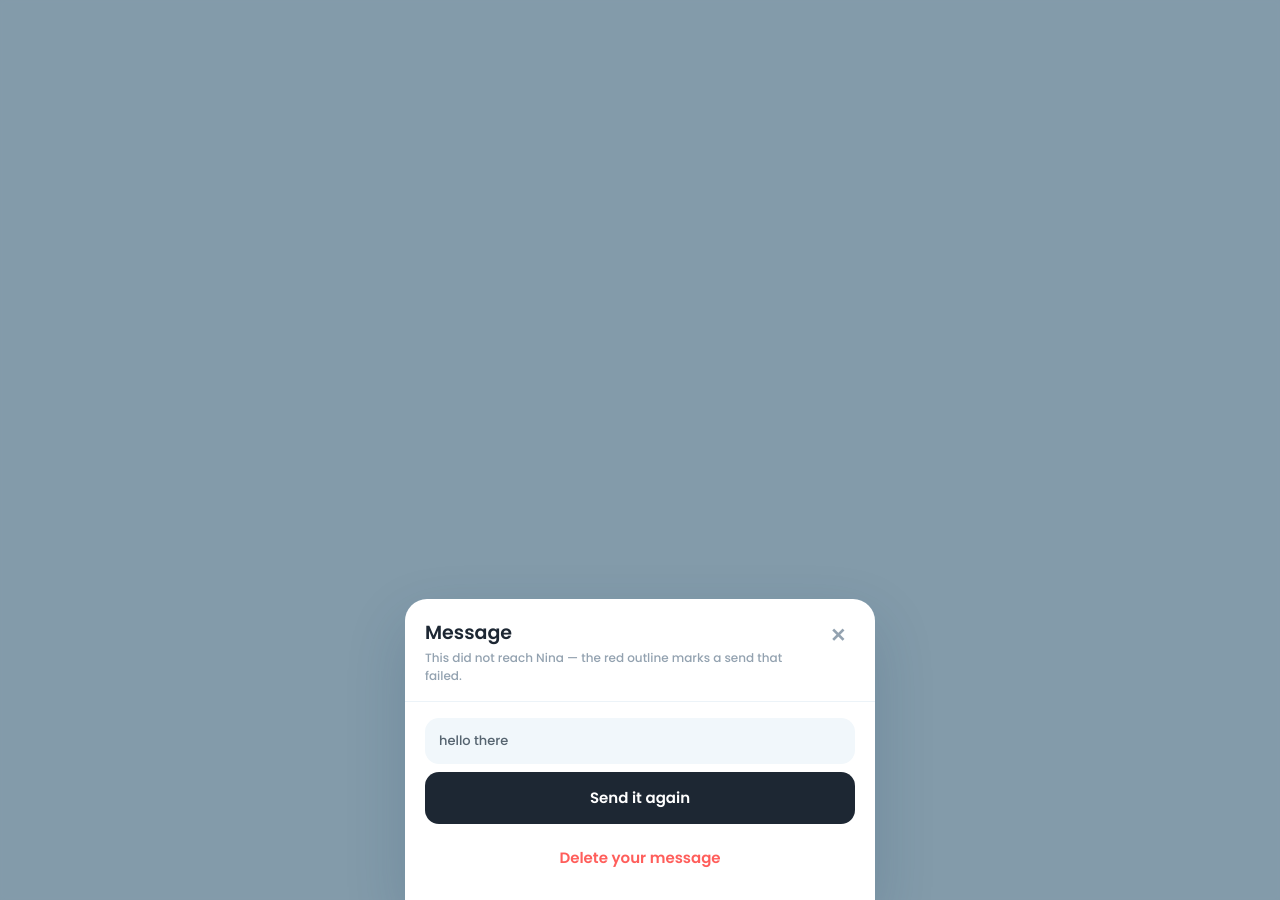
it: MessageActionsSheet › retrying a failed send › shows a refusal and stays open when the retry fails
Click the button "Send it again": (640, 798) [425,772,855,824]
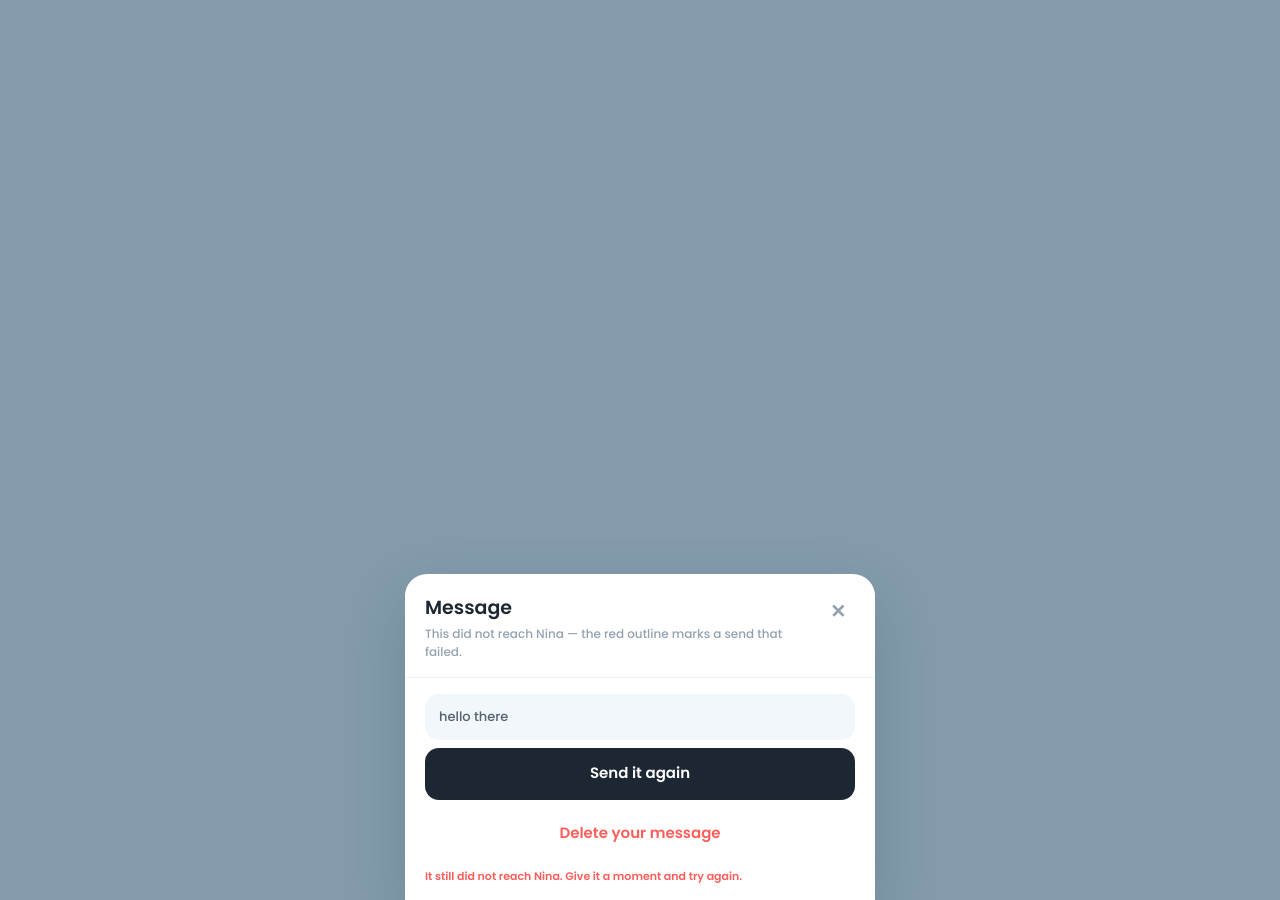
Expected: the text "It still did not reach Nina. Give it a moment and try again." is shown, [425,868,742,884]
